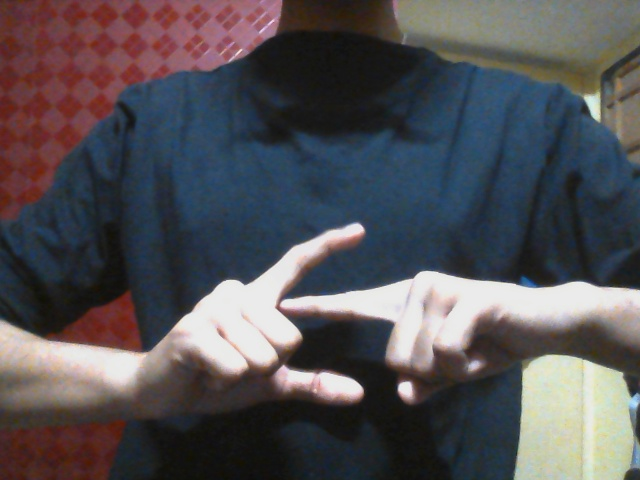E: (158, 221, 508, 421)
